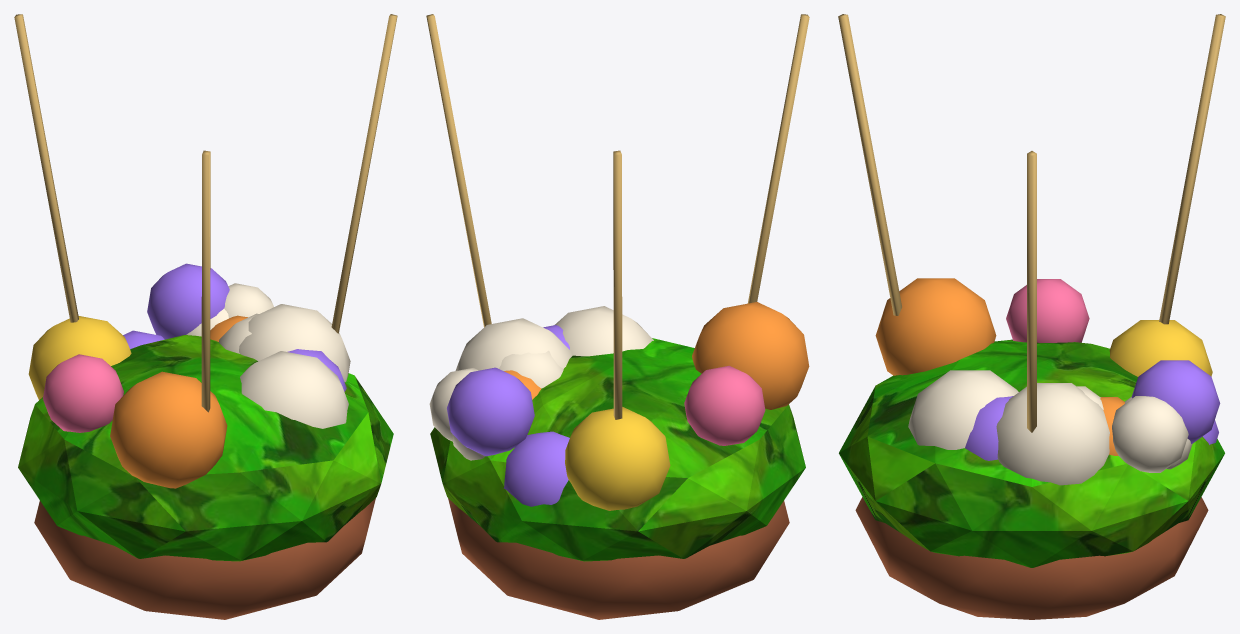
The model's file is planter_hanging.glb.
The picture shows the model from 3 angles, left to right: view 1: azimuth 30°, elevation 25°; view 2: azimuth 150°, elevation 25°; view 3: azimuth 270°, elevation 25°; orthographic projection.
Visible parts, largest first — view 1: planter_hanging; view 2: planter_hanging; view 3: planter_hanging.
Boxes of the visible parts, x1,y1,x2,y2 form: planter_hanging: [14, 14, 397, 619]; planter_hanging: [426, 14, 809, 619]; planter_hanging: [838, 14, 1225, 619].
Size of the model in its own units: 0.9678 by 1.41 by 0.9224.
Materials: 8 (1 with a texture image).
